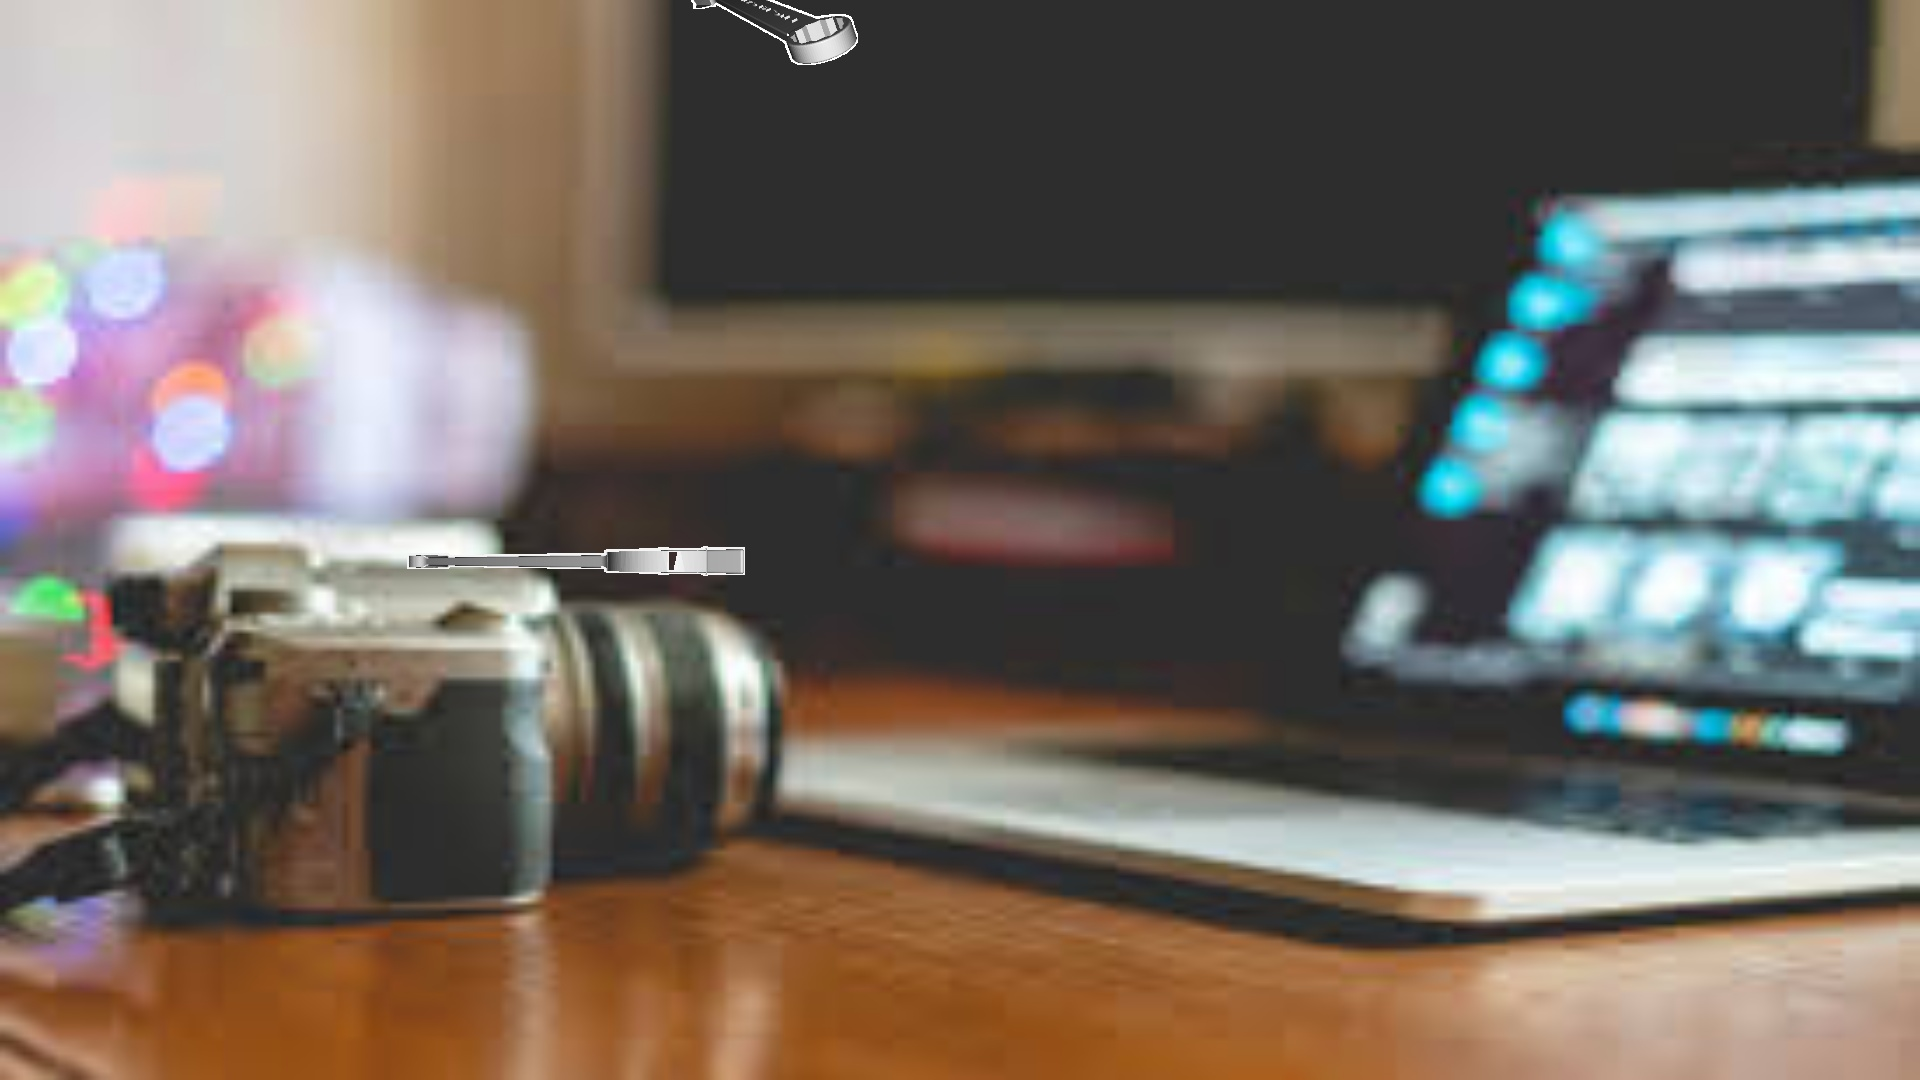Mixed Key: (691, 0, 857, 65), (407, 546, 744, 575)
